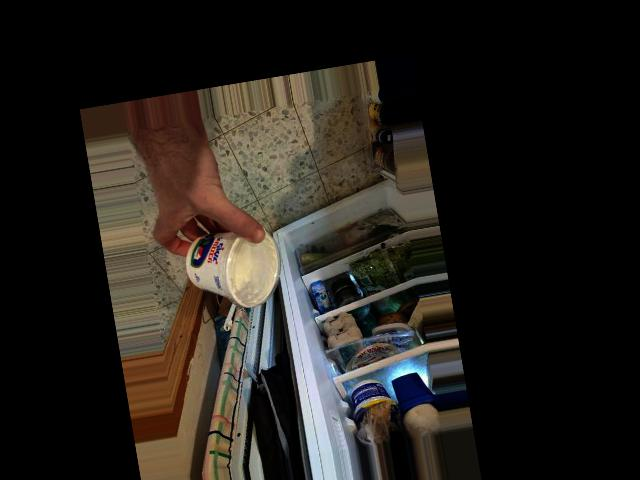cotage: (191, 226, 276, 320)
